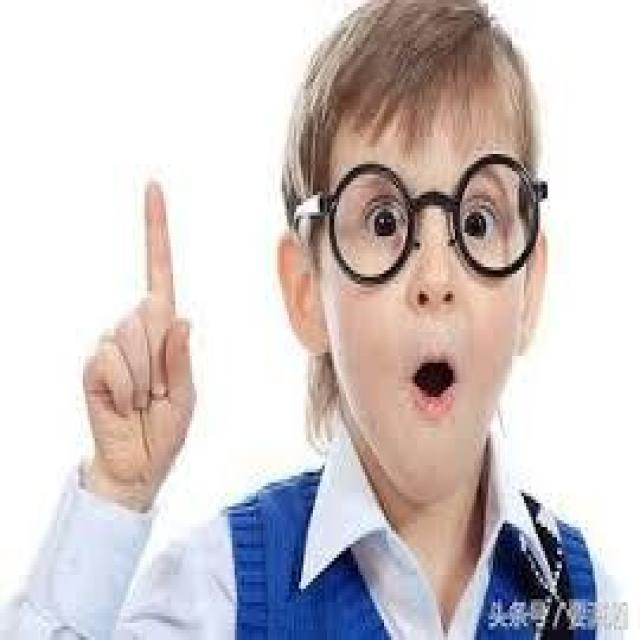glasses: (287, 154, 550, 286)
